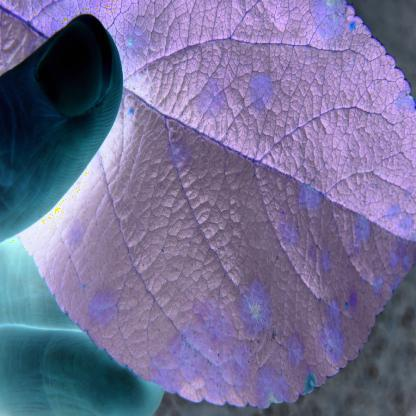Apple Scab Leaf: (132, 2, 416, 408)
